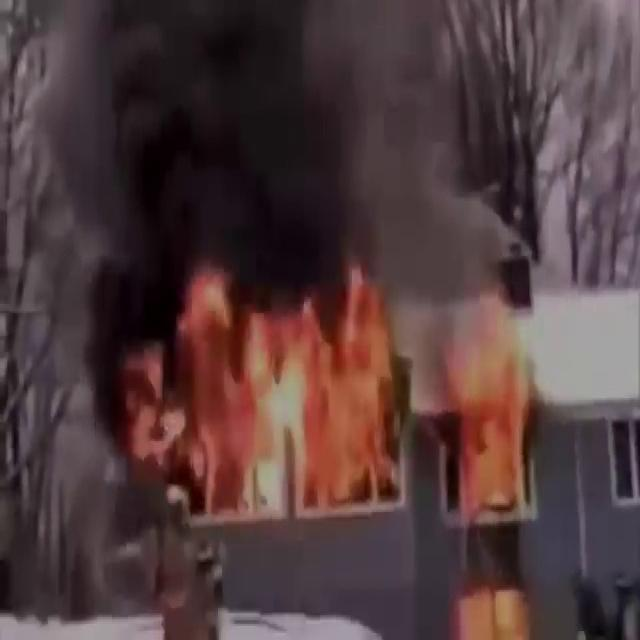Fire: (124, 248, 416, 532), (450, 240, 543, 534)
Smoke: (36, 0, 494, 320)
